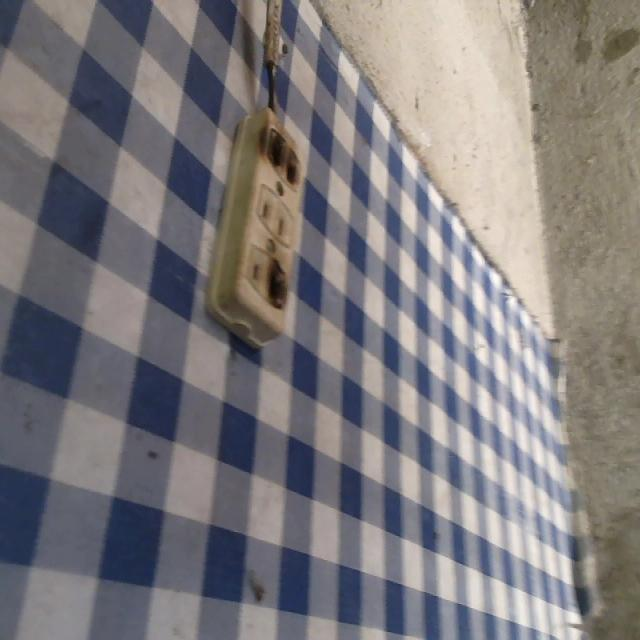-: (256, 119, 301, 189), (264, 252, 289, 312)
